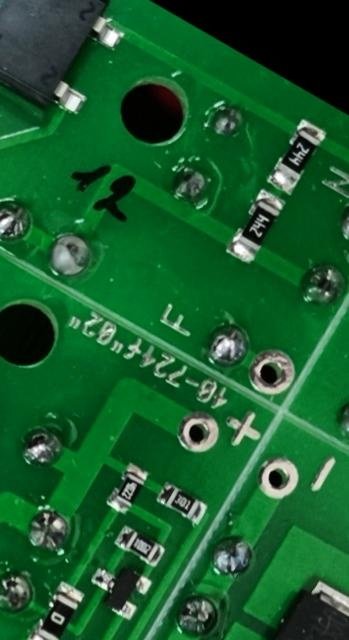chip-resistor: (261, 114, 331, 200), (222, 185, 288, 268), (23, 578, 87, 640), (101, 458, 152, 519), (151, 478, 211, 528), (110, 521, 168, 571)
ic: (0, 0, 140, 129)
transistor: (78, 550, 155, 626)
